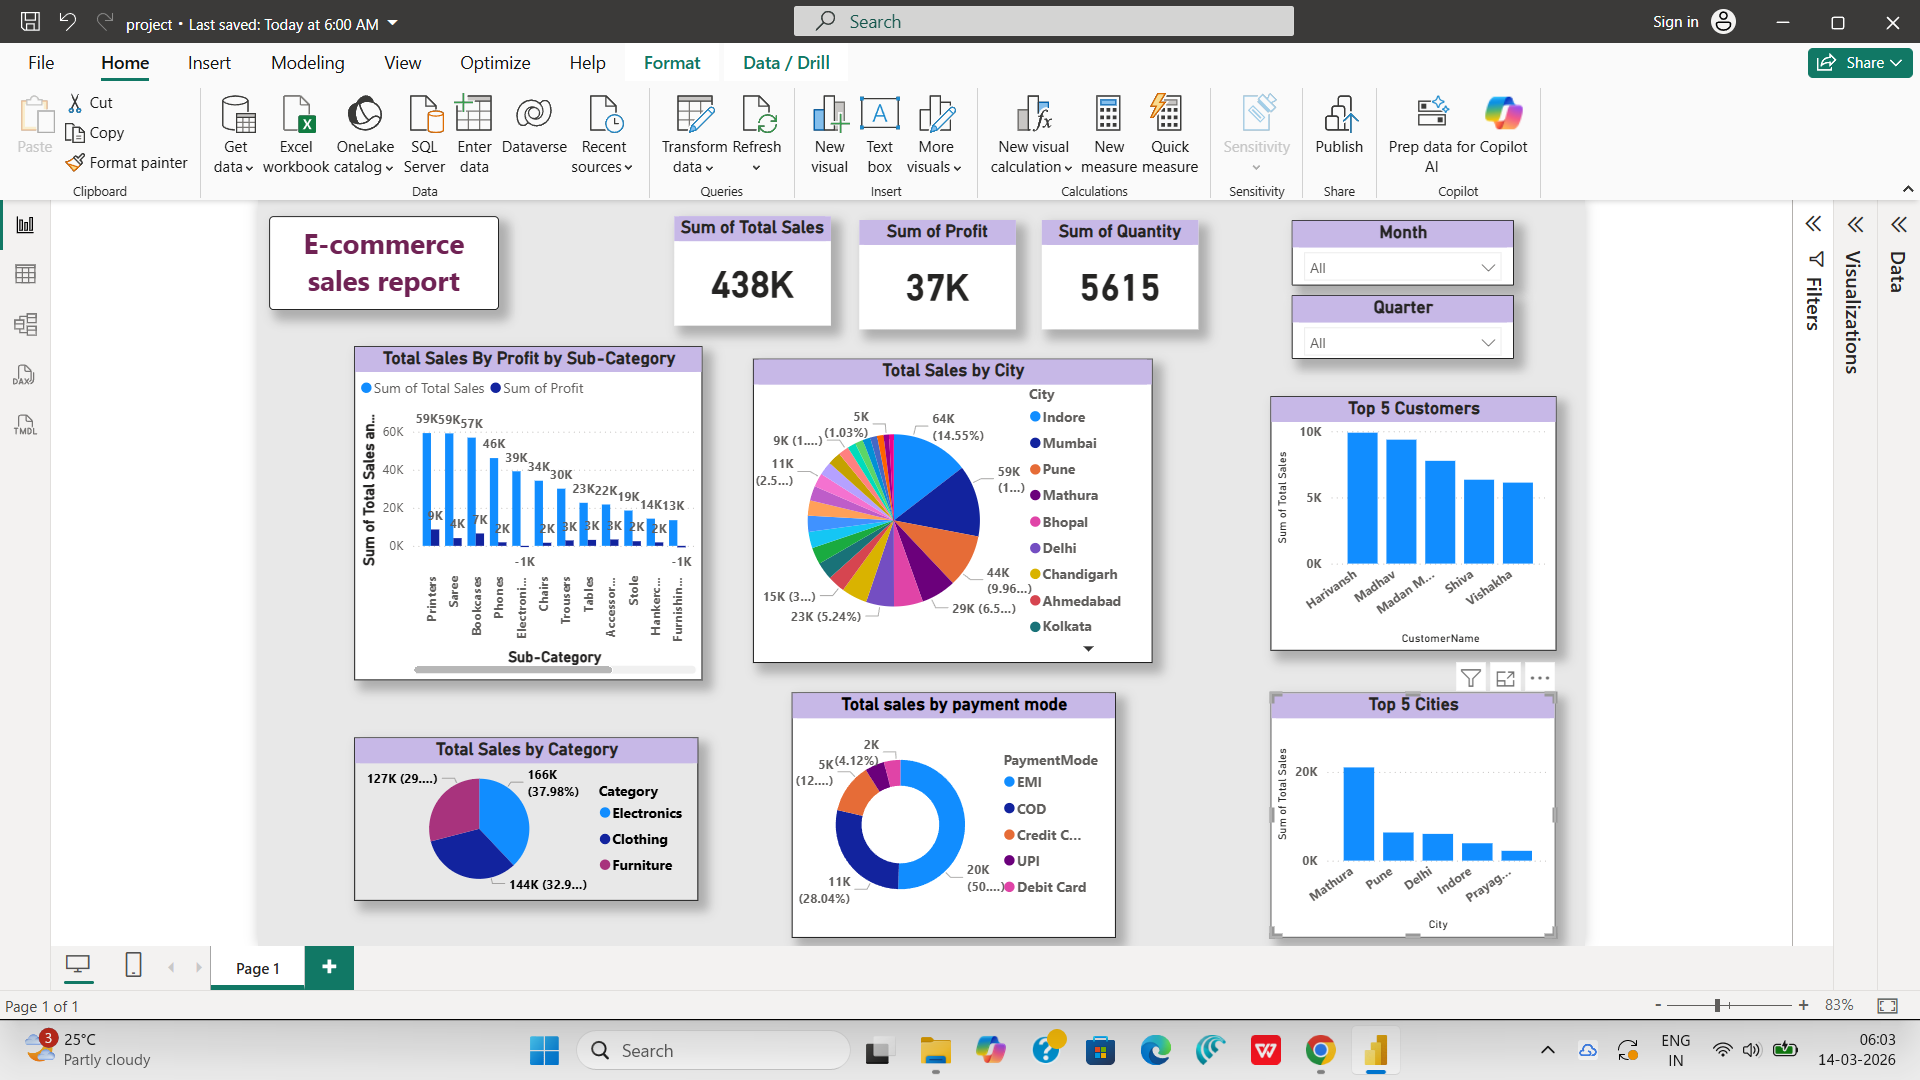

Layout of this report page (visuals, bound fields, positions):
{"tool":"powerbi","page":{"name":"Page 1","canvas":[1280,720],"ordinal":0},"visuals":[{"type":"textbox","box":[11.4,15.7,221.4,90],"z":0},{"type":"slicer","title":"Month","fields":{"Values":["ecommerce (2).Order Date","ecommerce (2).Order Date.Variation.Date Hierarchy.Month"]},"box":[997.6,19.2,214.1,63.1],"z":4000},{"type":"slicer","title":"Quarter","fields":{"Values":["ecommerce (2).Order Date","ecommerce (2).Order Date.Variation.Date Hierarchy.Quarter"]},"box":[997.6,91.9,214.1,61.7],"z":5000},{"type":"pieChart","title":"Total Sales by Category","fields":{"Y":["Sum(ecommerce.Total Sales)"],"Category":["ecommerce.Category"]},"box":[93.3,518.7,332.1,157.8],"z":6000},{"type":"clusteredColumnChart","title":"Total Sales By Profit by Sub-Category","fields":{"Y":["Sum(ecommerce.Total Sales)","Sum(ecommerce.Profit)"],"Category":["ecommerce.Sub-Category"]},"box":[93.3,141.3,336.2,322.5],"z":7000},{"type":"donutChart","title":"Total sales by payment mode","fields":{"Category":["ecommerce.PaymentMode"],"Y":["Sum(ecommerce.Total Sales)"]},"box":[514.6,474.8,312.9,245.6],"z":8000},{"type":"columnChart","title":"Top 5  Customers","fields":{"Y":["Sum(ecommerce.Total Sales)"],"Category":["ecommerce (2).CustomerName"]},"box":[977.1,190,275.7,245.7],"z":9000},{"type":"pieChart","title":"Total Sales by City","fields":{"Y":["Sum(ecommerce.Total Sales)"],"Category":["ecommerce (2).City"]},"box":[477.5,153.7,385.6,293.7],"z":10000},{"type":"columnChart","title":"Top 5  Cities","fields":{"Y":["Sum(ecommerce.Total Sales)"],"Category":["ecommerce (2).City"]},"box":[977,474.8,275.8,245.6],"z":11000},{"type":"card","title":"Sum of Total Sales","fields":{"Values":["Sum(ecommerce.Total Sales)"]},"box":[402.1,15.1,150.9,105.7],"z":11001},{"type":"card","title":"Sum of Profit","fields":{"Values":["Sum(ecommerce.Profit)"]},"box":[580.4,19.2,150.9,105.7],"z":11002},{"type":"card","title":"Sum of Quantity","fields":{"Values":["Sum(ecommerce.Quantity)"]},"box":[756.1,19.2,150.9,105.7],"z":11003}]}

Visuals, with their boxes on the page's 1280x720 design canvas (x1, y1, x2, y2). These are canvas units, not pixel positions in the 1920x1080 screenshot, which may show the page scaled, cropped or inside an application window:
textbox: 11 16 233 106
"Month" slicer: 998 19 1212 82
"Quarter" slicer: 998 92 1212 154
"Total Sales by Category" pieChart: 93 519 425 676
"Total Sales By Profit by Sub-Category" clusteredColumnChart: 93 141 430 464
"Total sales by payment mode" donutChart: 515 475 828 720
"Top 5  Customers" columnChart: 977 190 1253 436
"Total Sales by City" pieChart: 478 154 863 447
"Top 5  Cities" columnChart: 977 475 1253 720
"Sum of Total Sales" card: 402 15 553 121
"Sum of Profit" card: 580 19 731 125
"Sum of Quantity" card: 756 19 907 125
